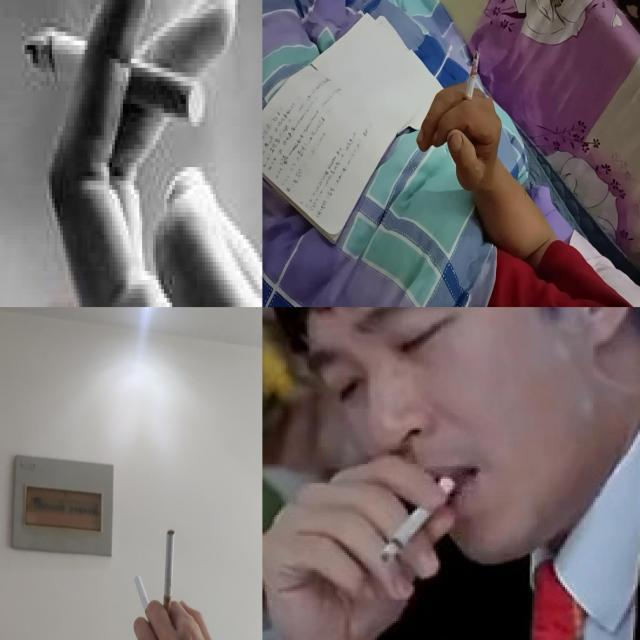smoke: (22, 27, 205, 126), (380, 473, 458, 562), (134, 574, 158, 634), (459, 50, 481, 111), (162, 530, 176, 622)
